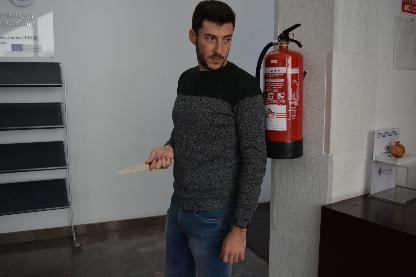knife: (115, 156, 158, 175)
